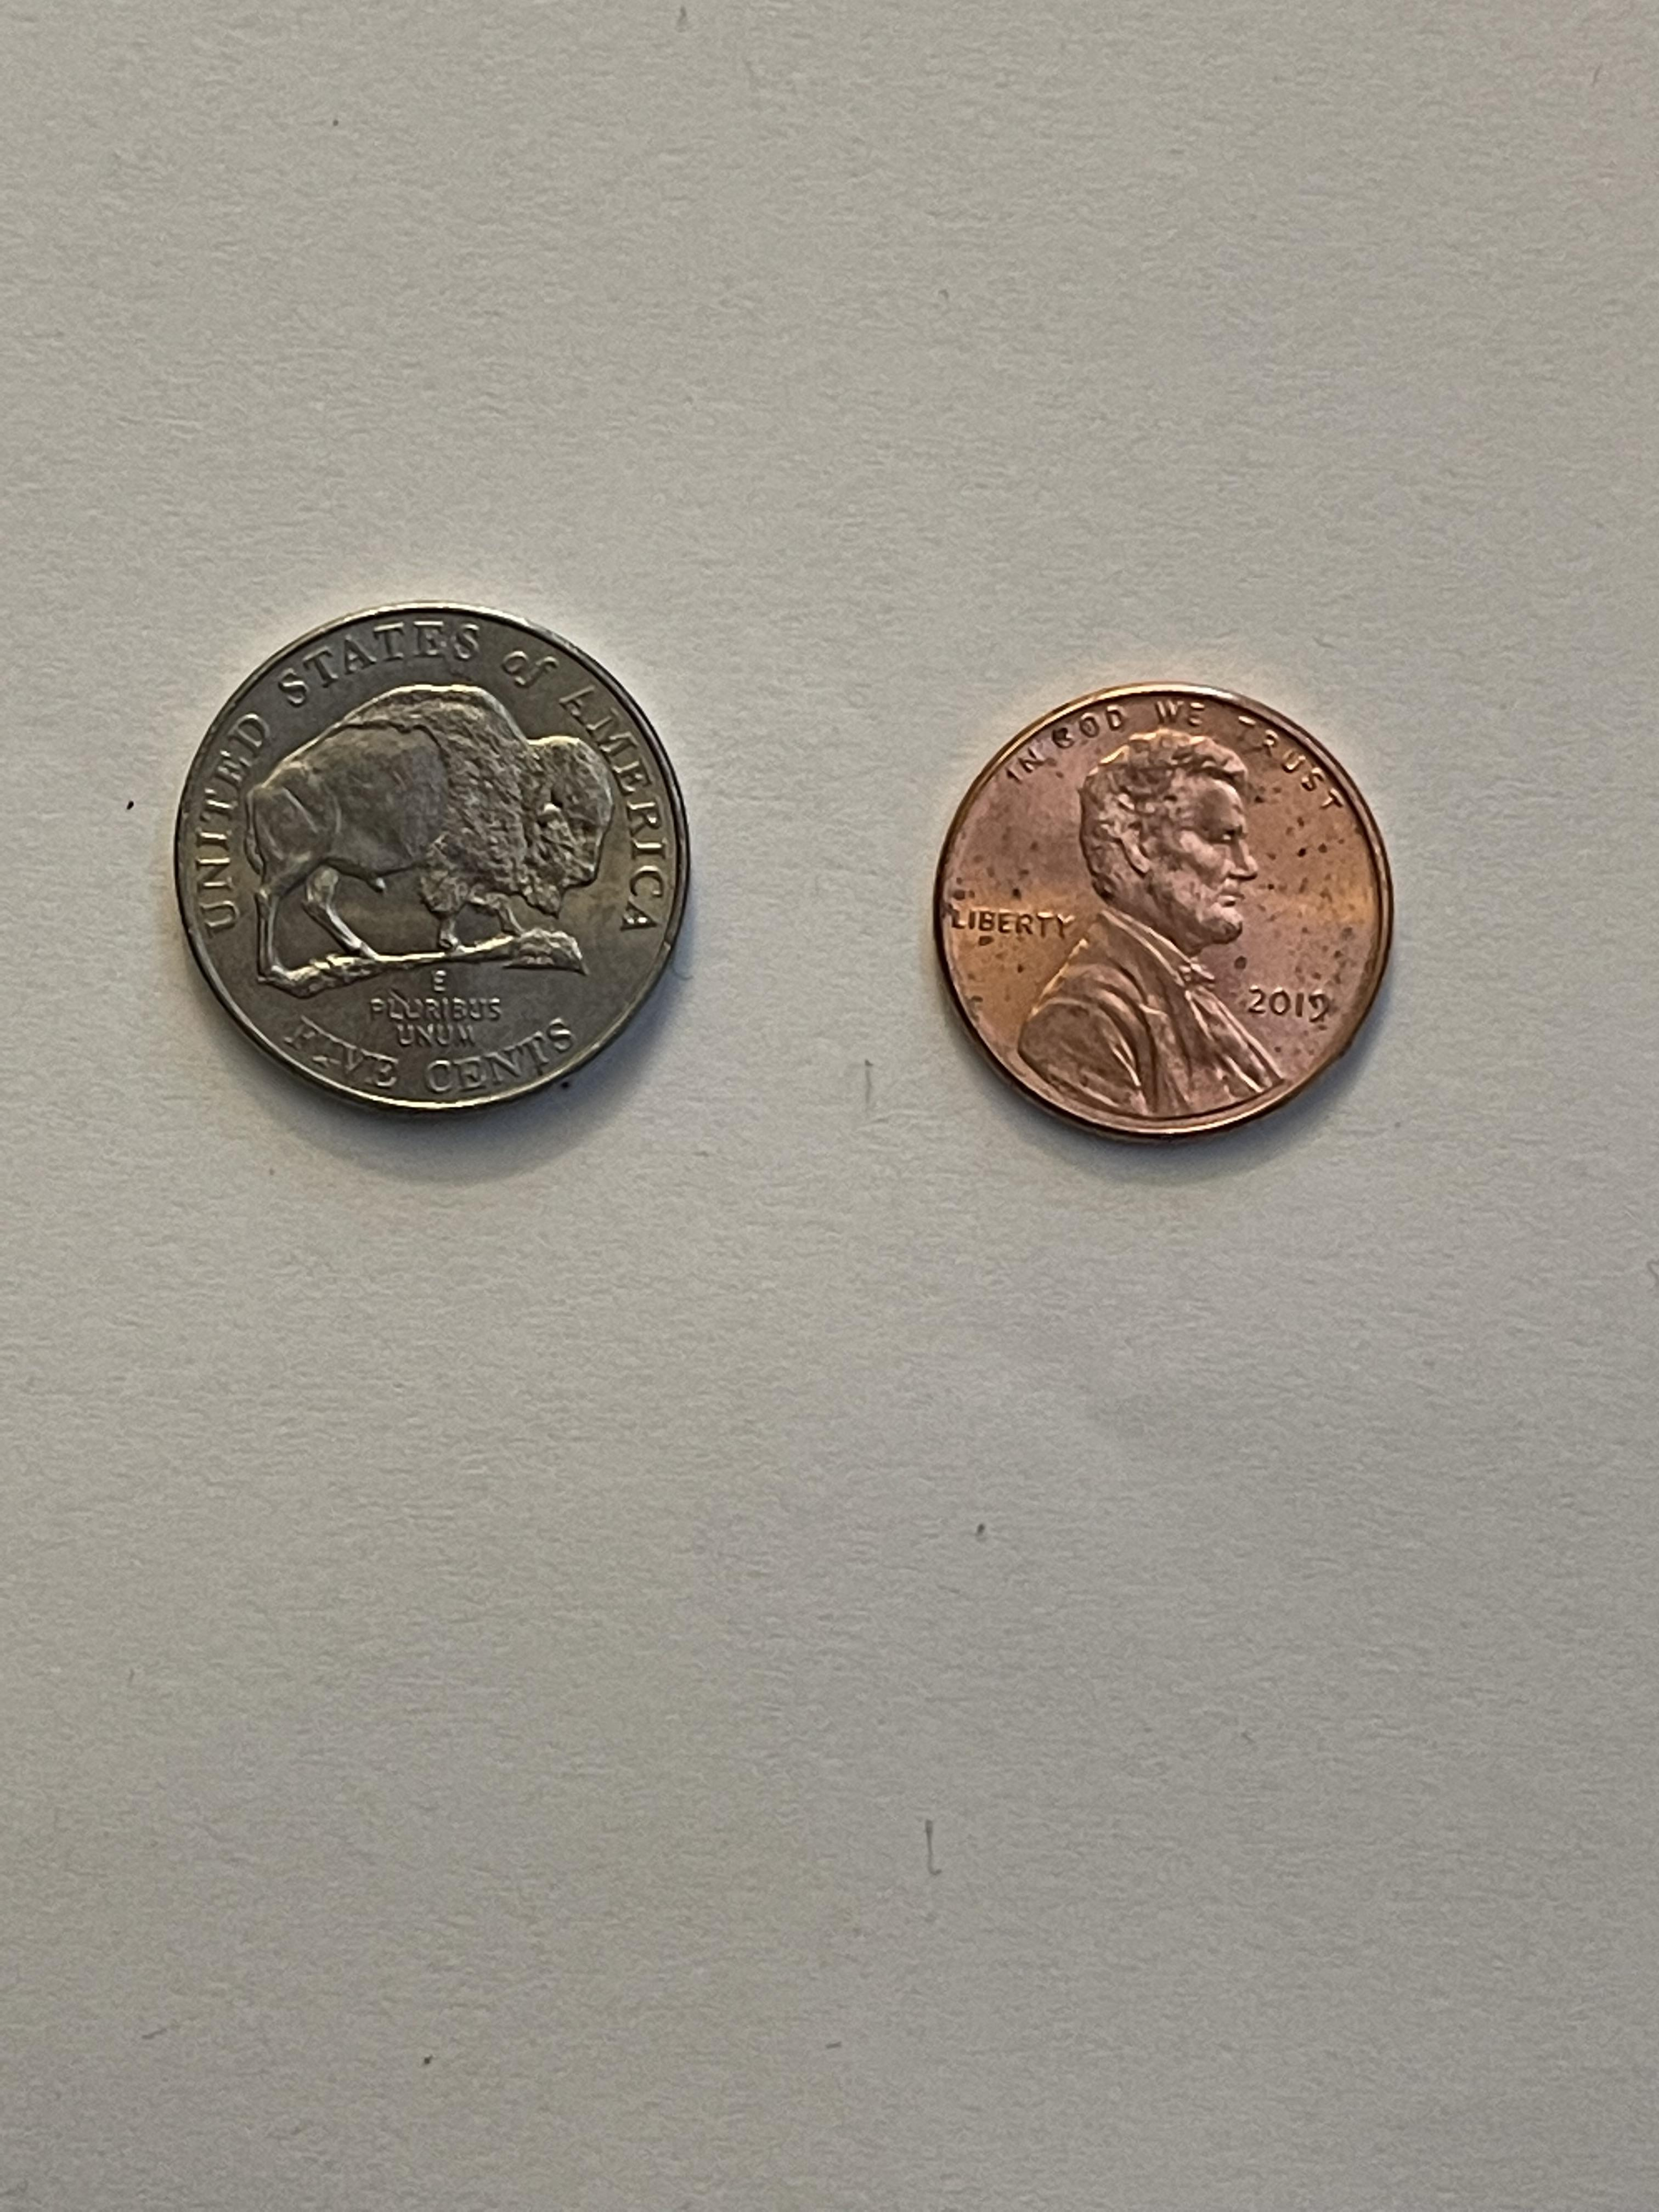Nickel: (171, 597, 694, 1113)
Penny: (927, 679, 1396, 1139)
